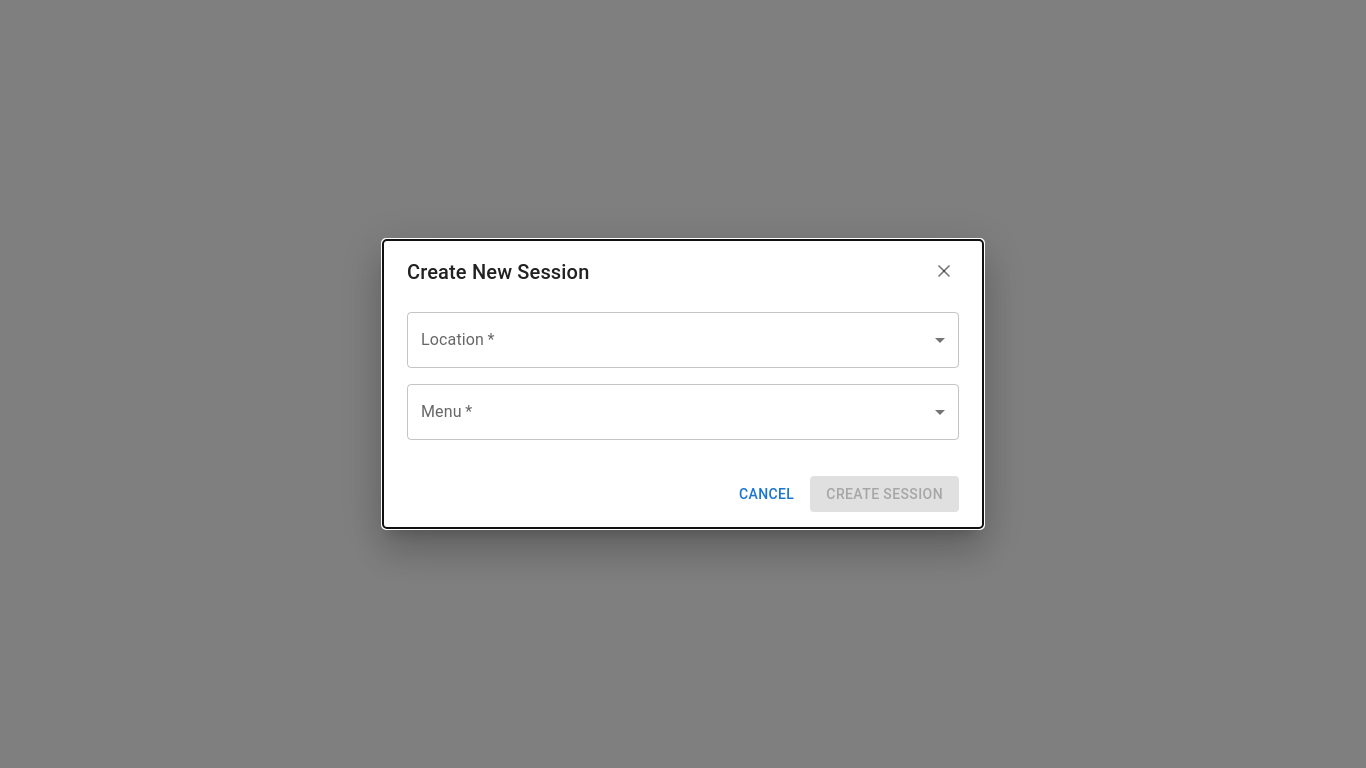
NewSessionDialog › offers every location when there is no working location
This screenshot has width=1366, height=768.
Press the mouse on the dropdown named "Location" next to "Location": (683, 340) [407,312,959,368]
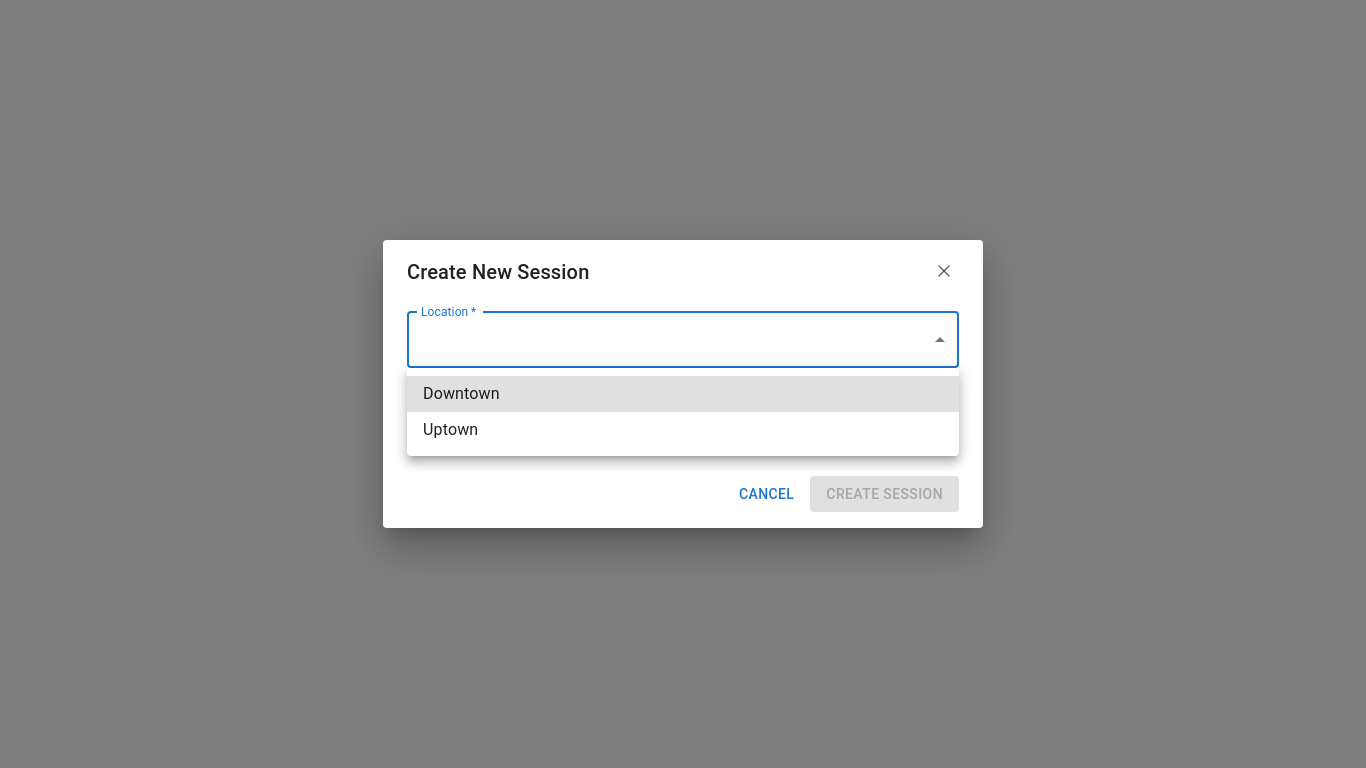
Click the option "Uptown": (451, 430) [423,420,478,439]
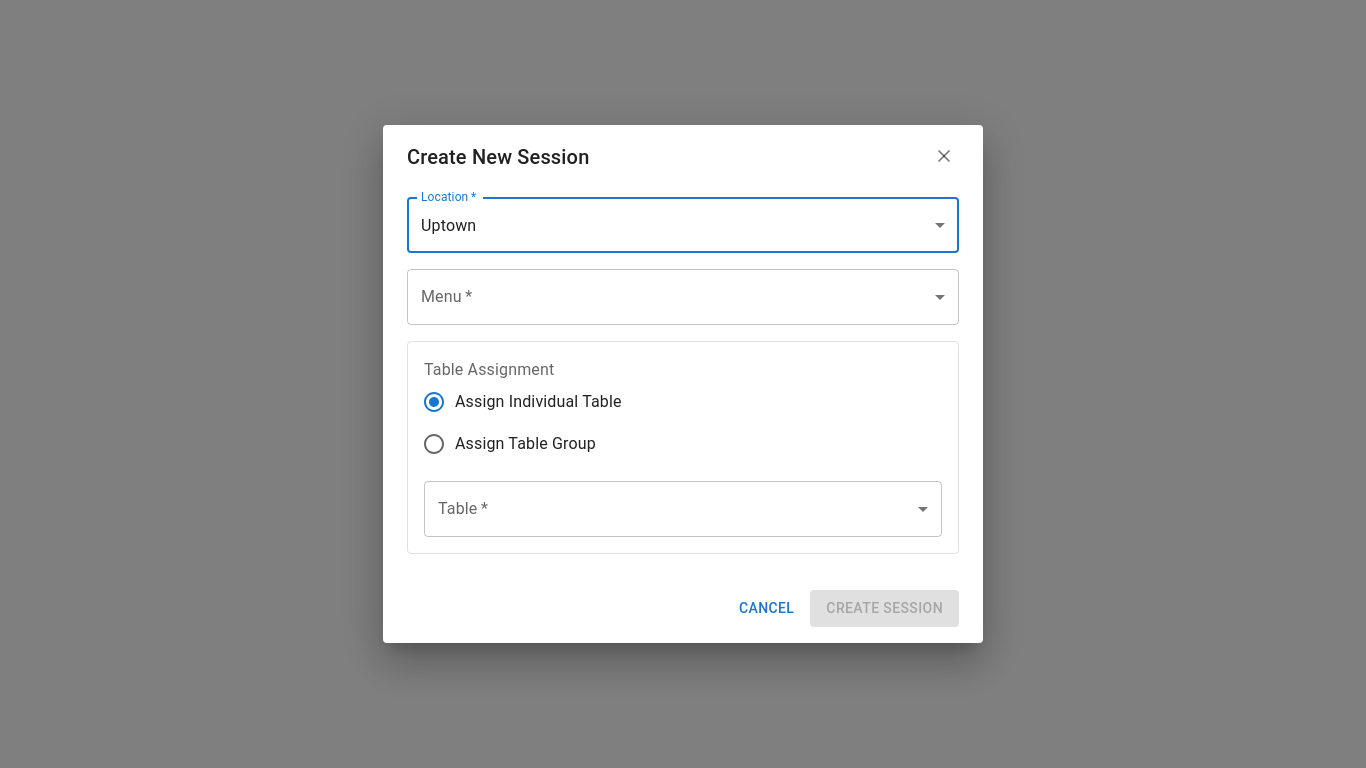
Expected: the dropdown named "Location" reads "Uptown", [421,216,476,235]
